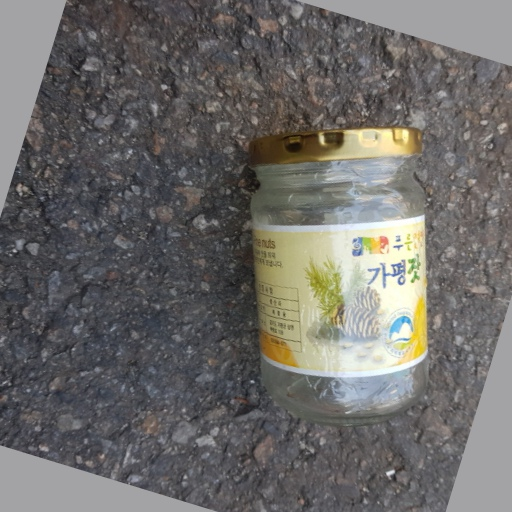Glass_5: (237, 114, 447, 423)
